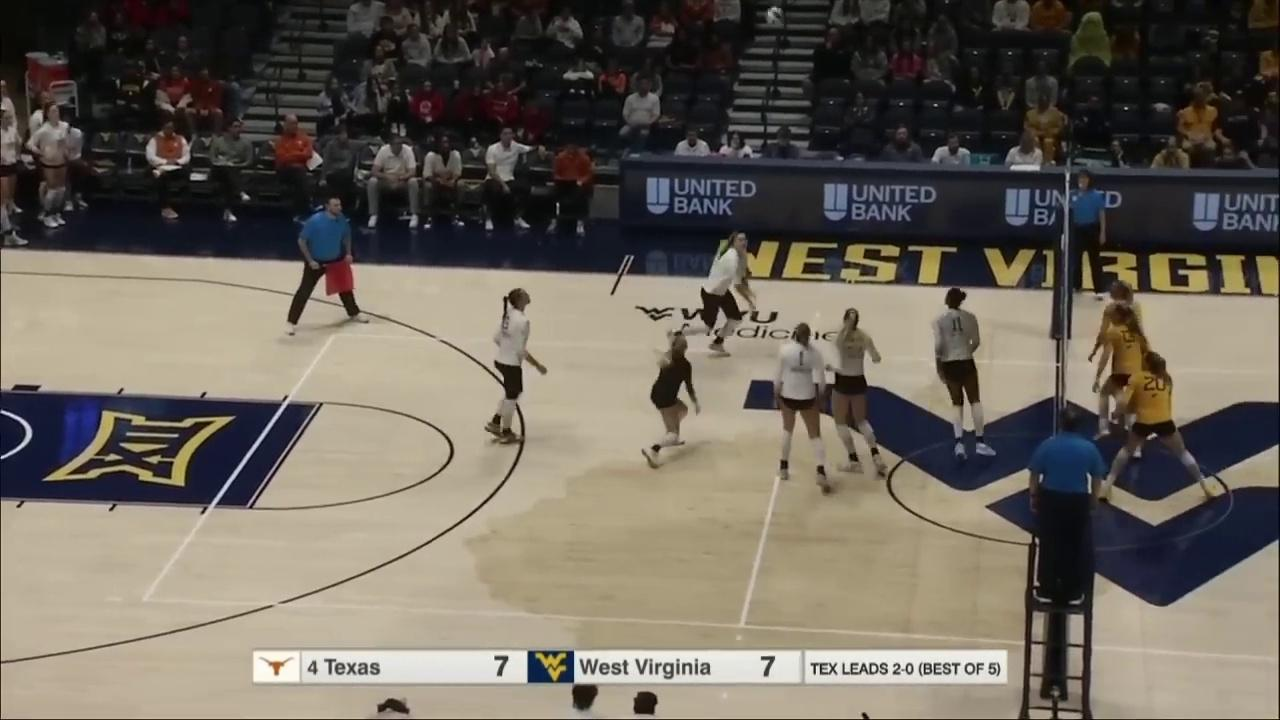player: (1101, 347, 1210, 511), (816, 309, 900, 479), (1089, 274, 1167, 439), (766, 321, 837, 495), (929, 283, 997, 463), (481, 291, 542, 446), (683, 233, 755, 362), (641, 325, 703, 473), (1102, 304, 1157, 444)
refree: (1022, 404, 1109, 612), (284, 198, 370, 339), (1062, 167, 1113, 305)
